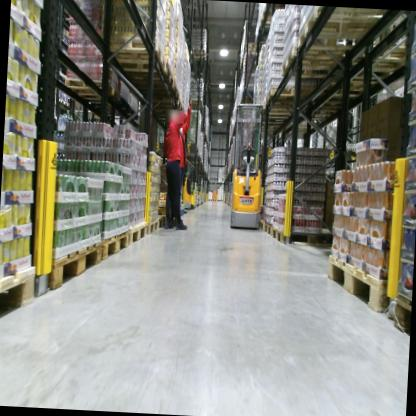pallet: (291, 8, 390, 59), (324, 251, 393, 315), (276, 43, 357, 88), (98, 34, 169, 75), (50, 236, 102, 291), (0, 262, 37, 325), (111, 57, 175, 90), (62, 77, 121, 108), (262, 83, 319, 113), (271, 222, 335, 248), (130, 77, 180, 102), (99, 226, 129, 262), (92, 90, 130, 116), (389, 291, 411, 335), (124, 219, 148, 247), (185, 43, 208, 61), (145, 216, 159, 234), (154, 213, 168, 231), (190, 95, 204, 108), (264, 221, 272, 236), (258, 217, 265, 229), (181, 206, 186, 216)
pallet_truck: (226, 98, 267, 230), (176, 158, 195, 213)
